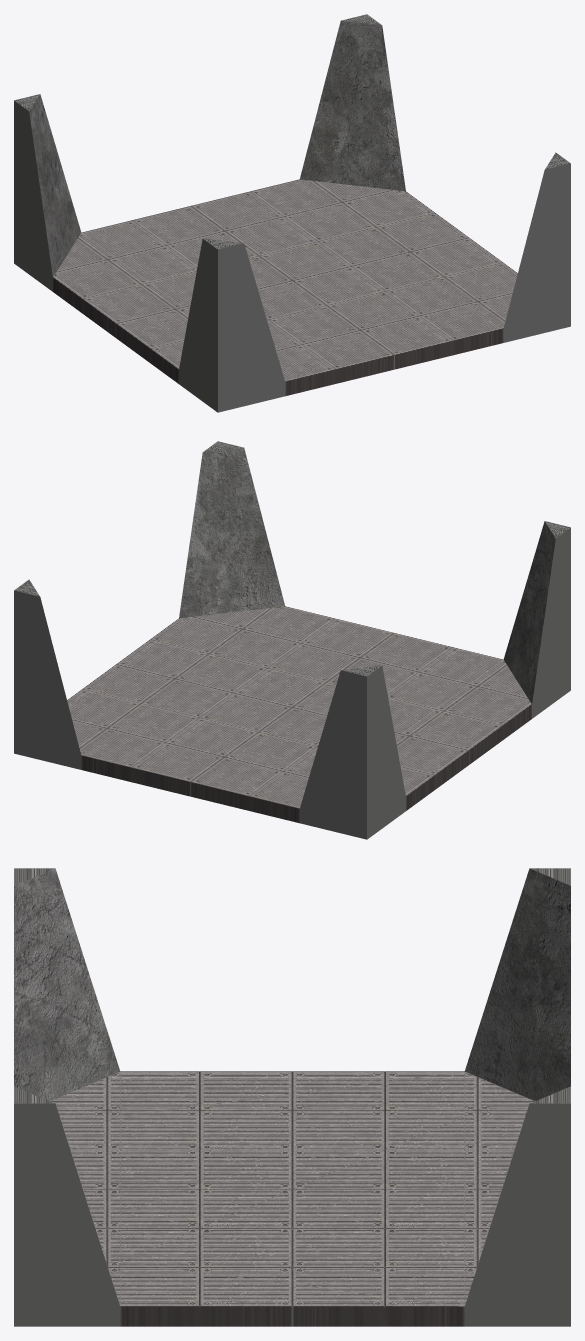
The model's file is Corridor X.fbx.
The picture shows the model from 3 angles, top to bottom: view 1: azimuth 30°, elevation 25°; view 2: azimuth 150°, elevation 25°; view 3: azimuth 270°, elevation 25°; orthographic projection. The views are drawn at different scales.
Parts seen in each view (by area): view 1: Corridor X; view 2: Corridor X; view 3: Corridor X.
Boxes of the visible parts, x1,y1,x2,y2 form: Corridor X: (14, 14, 570, 412); Corridor X: (14, 441, 570, 839); Corridor X: (14, 868, 570, 1326).
Size of the model in its own units: 717 by 317 by 717.
